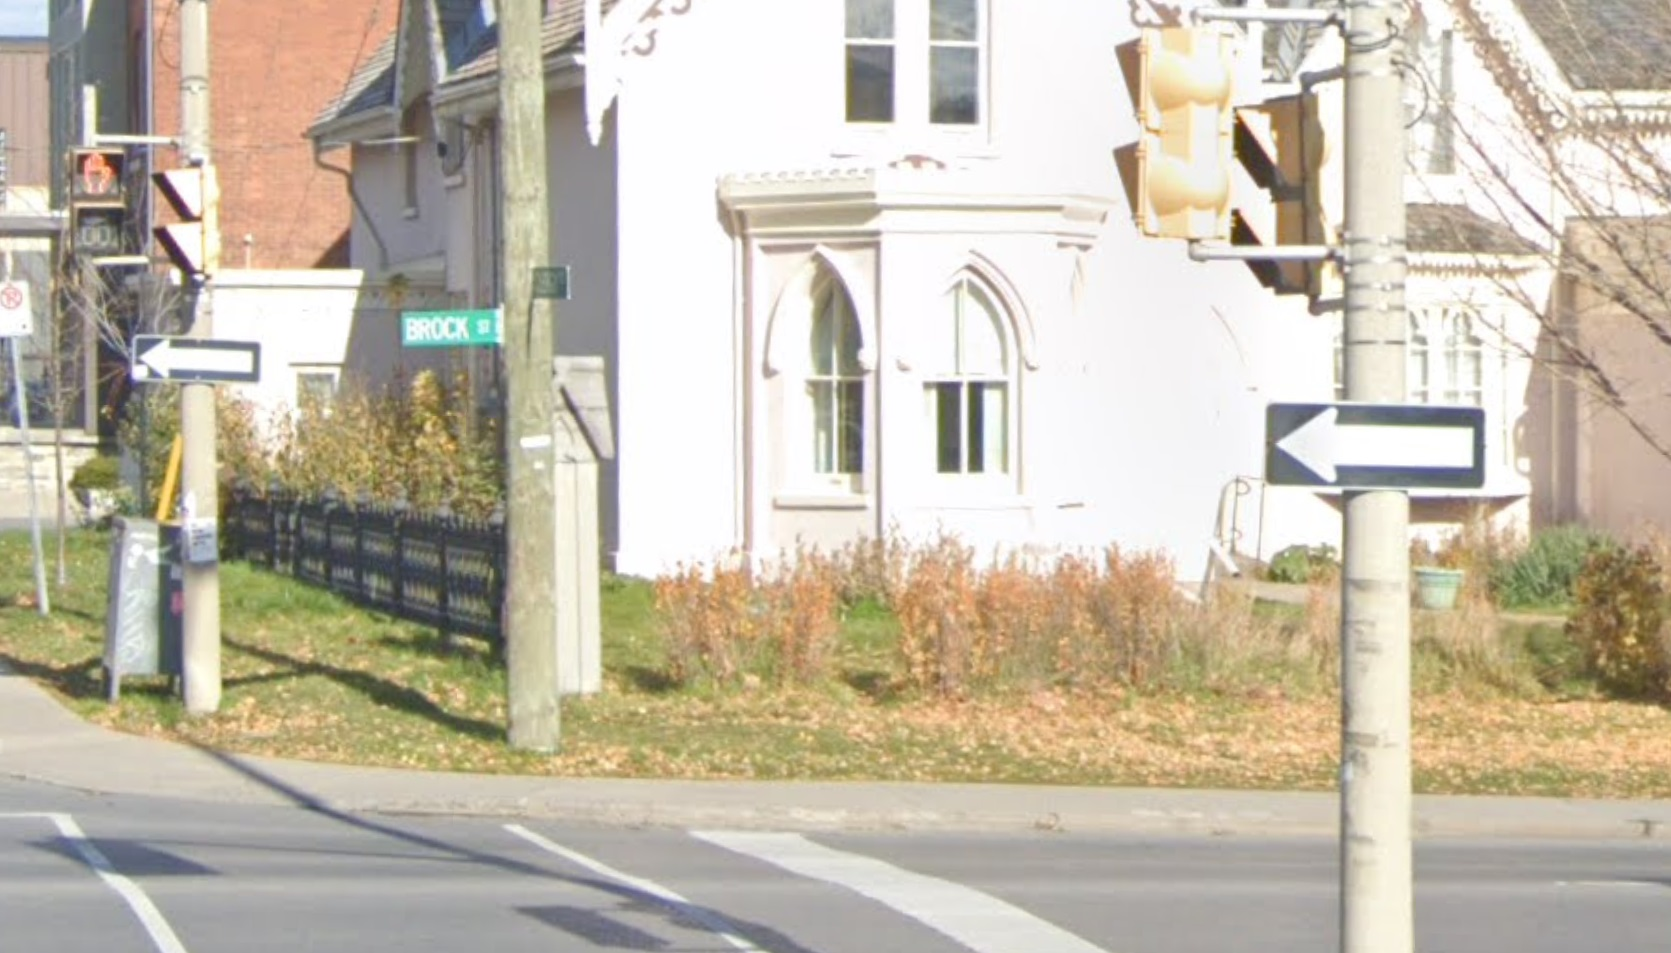sign_oneway_left: (1257, 400, 1497, 496), (129, 330, 265, 386)
